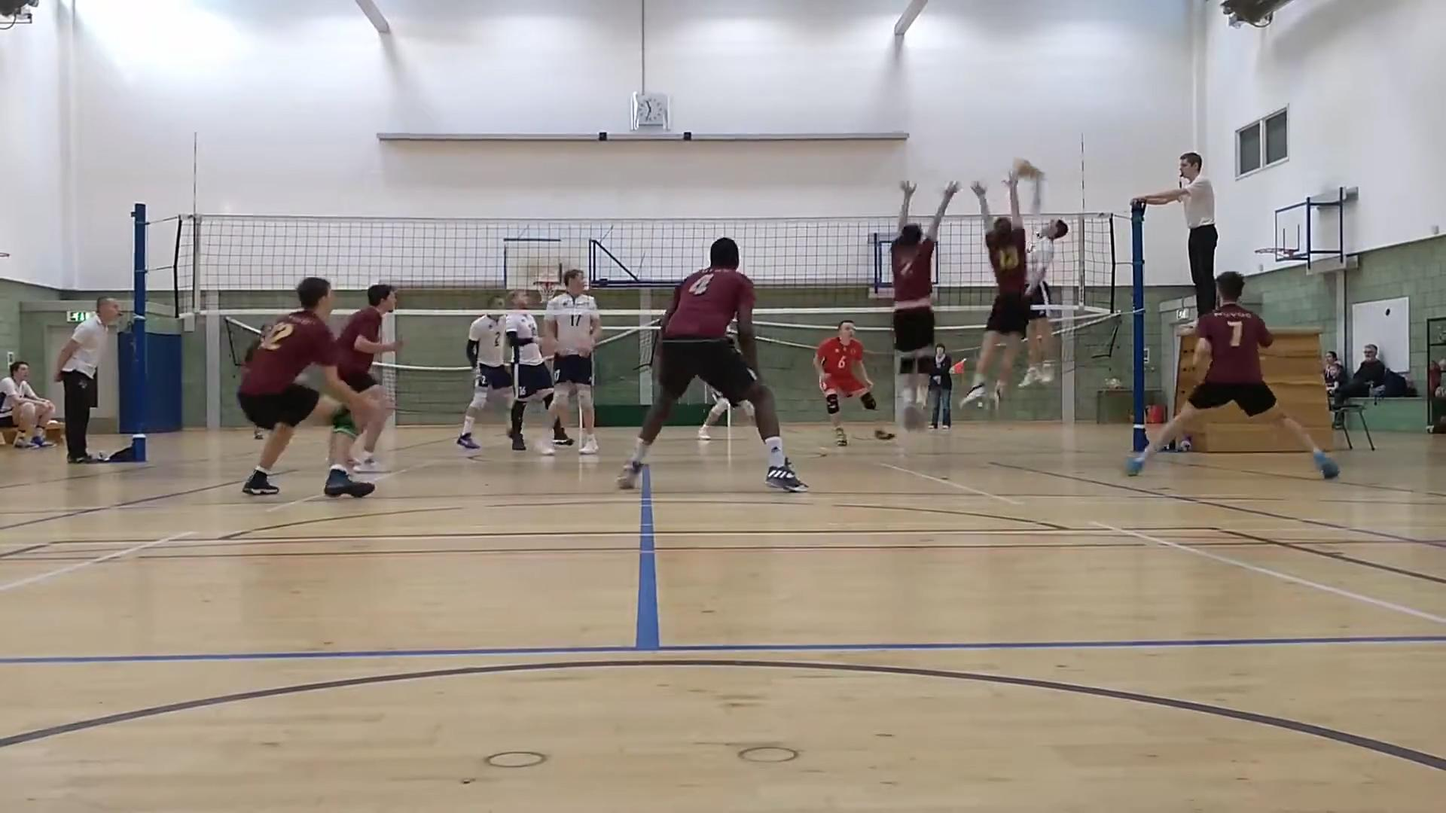attacco: (1007, 158, 1076, 395)
muro: (952, 176, 1056, 408), (886, 174, 958, 413)
